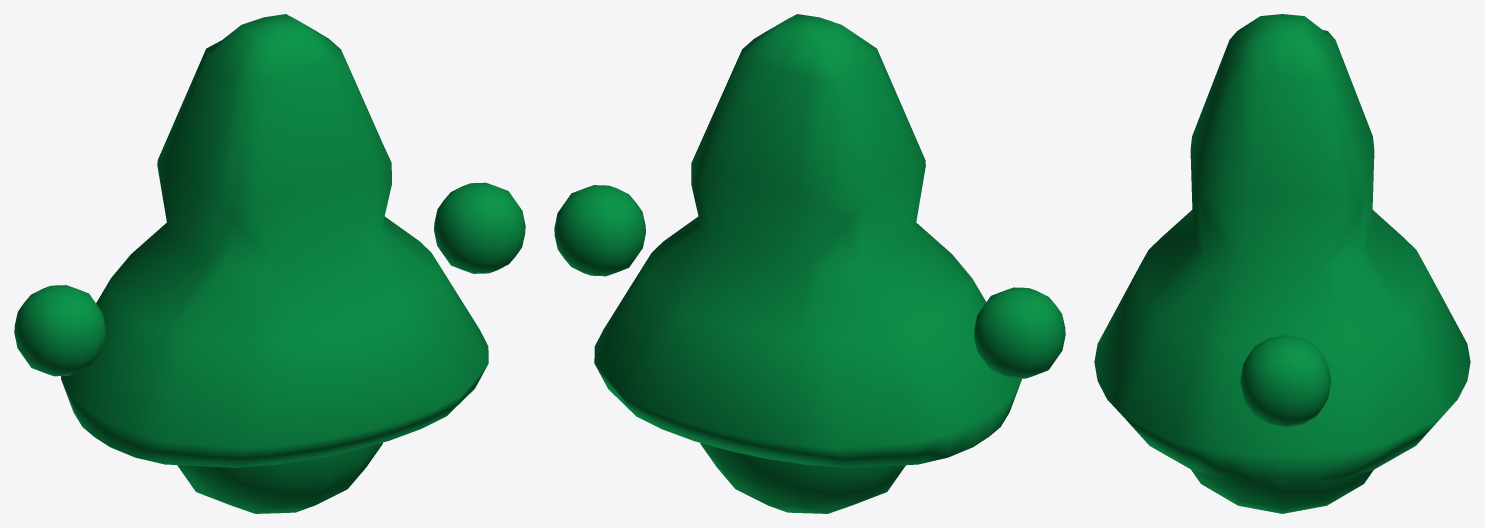
The model's file is Lydia_Model.fbx.
3 views of the same model, side by side, from view 1: azimuth 30°, elevation 25°; view 2: azimuth 150°, elevation 25°; view 3: azimuth 270°, elevation 25° (orthographic).
Visible parts, largest first — view 1: Body1, RollerBall, Hand_R, Hand_L; view 2: Body1, RollerBall, Hand_L, Hand_R; view 3: Body1, Hand_R, RollerBall.
Part boxes in pixels (bbox=[...]): Body1: bbox=[61, 14, 488, 467]; RollerBall: bbox=[177, 442, 382, 513]; Hand_R: bbox=[434, 182, 525, 273]; Hand_L: bbox=[14, 285, 105, 376]; Body1: bbox=[594, 14, 1021, 467]; RollerBall: bbox=[700, 443, 905, 513]; Hand_L: bbox=[974, 287, 1065, 378]; Hand_R: bbox=[554, 185, 645, 276]; Body1: bbox=[1094, 14, 1470, 481]; Hand_R: bbox=[1240, 335, 1331, 427]; RollerBall: bbox=[1191, 469, 1373, 513].
Bounding box in the file's own units: 175 × 161 × 114.
